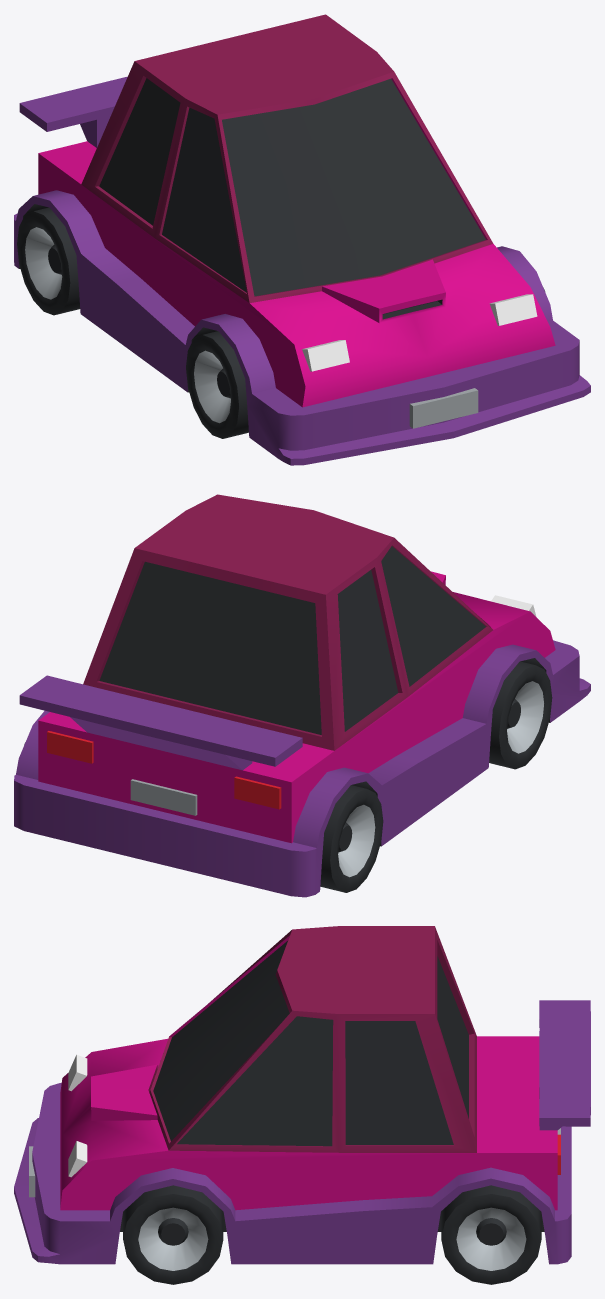
The model's file is Car_11.fbx.
The picture shows the model from 3 angles, top to bottom: view 1: azimuth 30°, elevation 25°; view 2: azimuth 150°, elevation 25°; view 3: azimuth 270°, elevation 25°; orthographic projection. The views are drawn at different scales.
Visible parts, largest first — view 1: Car4.001, Car11Wheel4, Car11Wheel2; view 2: Car4.001, Car11Wheel2, Car11Wheel4; view 3: Car4.001, Car11Wheel3, Car11Wheel1.
Boxes of the visible parts, <box> form: Car4.001: <box>14,14,590,465</box>; Car11Wheel4: <box>17,207,80,315</box>; Car11Wheel2: <box>186,331,248,438</box>; Car4.001: <box>14,494,590,897</box>; Car11Wheel2: <box>489,661,552,769</box>; Car11Wheel4: <box>320,785,383,892</box>; Car4.001: <box>14,926,590,1264</box>; Car11Wheel3: <box>441,1185,541,1284</box>; Car11Wheel1: <box>123,1185,223,1284</box>.
Bounding box in the file's own units: 299 × 232 × 501.
Materials: 1 (1 with a texture image).
